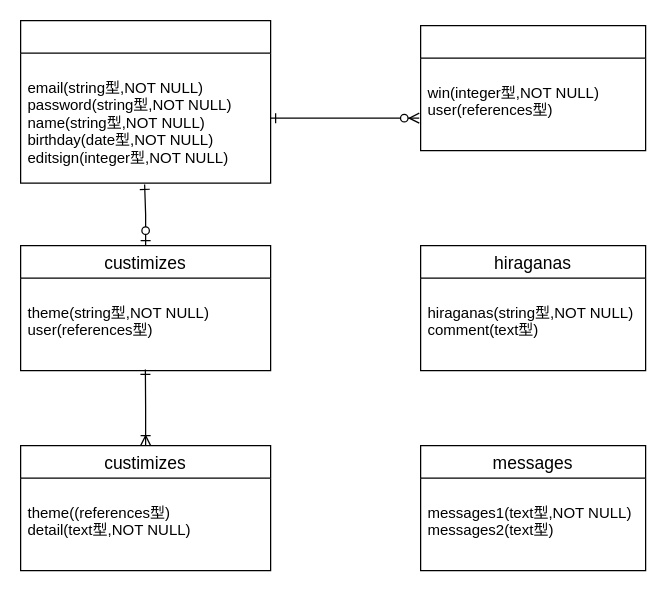
Some shapes in this 666 by 591 pixel diagram are drawn without their labels. Each missing label, with the box of its shape:
jankens: (419, 24, 646, 151)
users: (19, 19, 271, 183)
